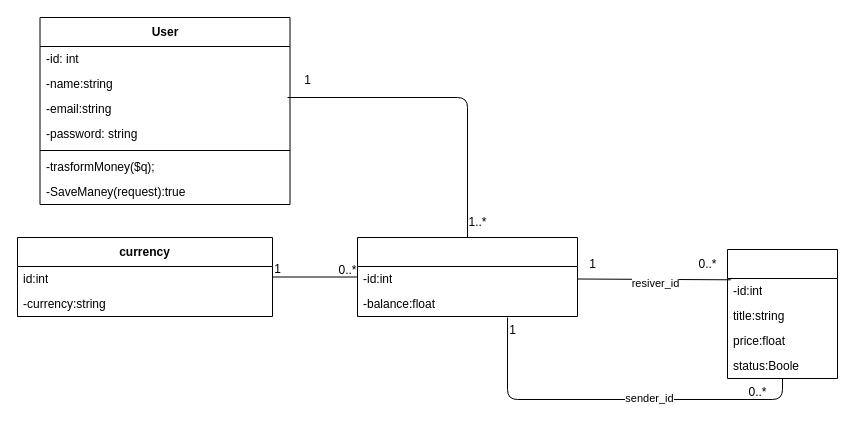
This 855x425 diagram has some shape labels left out. The box of each missing label's shape, as (x1, y1, x2, y2) in pixels:
trans: (726, 248, 838, 378)
wallet: (356, 236, 578, 316)
